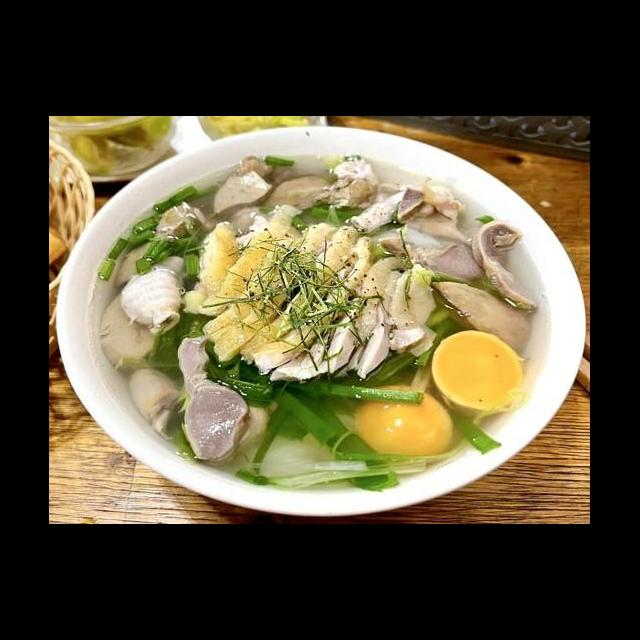thit ga: (264, 250, 442, 389), (235, 224, 378, 379), (198, 217, 342, 369), (215, 201, 308, 305), (178, 217, 248, 320)
trung: (428, 327, 530, 415), (350, 383, 458, 464)
